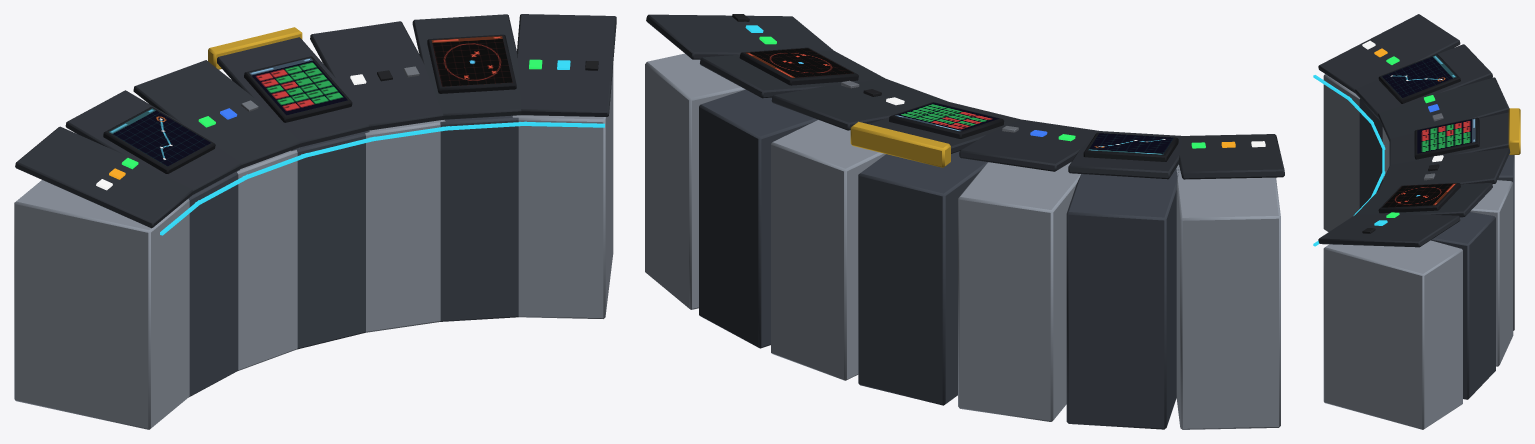
The model's file is console_curved_command_desk.glb.
3 views of the same model, side by side, from view 1: azimuth 30°, elevation 25°; view 2: azimuth 150°, elevation 25°; view 3: azimuth 270°, elevation 25° (orthographic). The views are drawn at different scales.
Visible parts, largest first — view 1: console_curved_command_desk; view 2: console_curved_command_desk; view 3: console_curved_command_desk.
Part boxes in pixels (x1=…): console_curved_command_desk: x1=14, y1=14, x2=616, y2=429; console_curved_command_desk: x1=645, y1=14, x2=1284, y2=429; console_curved_command_desk: x1=1313, y1=14, x2=1520, y2=429.
Size of the model in its own units: 2.71 by 1.06 by 1.03.
Materials: 15 (3 with a texture image).
